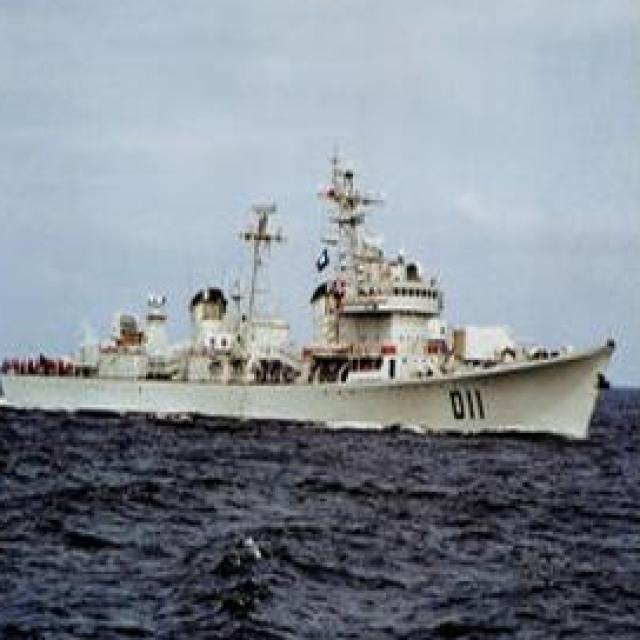navalvessels: (0, 160, 621, 431)
